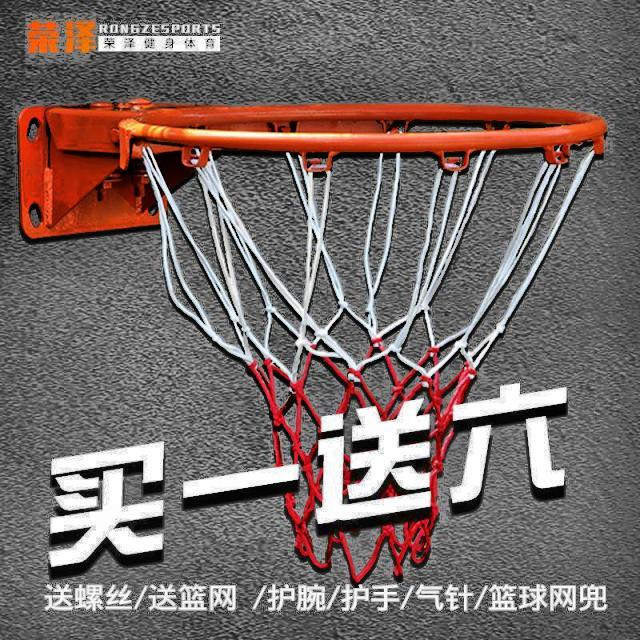rim: (127, 106, 608, 569)
